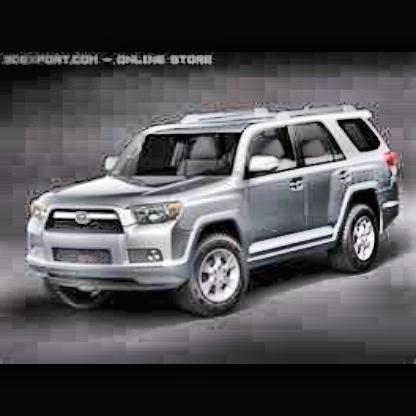Toyota 4Runner SUV 2012: (31, 107, 407, 322)
